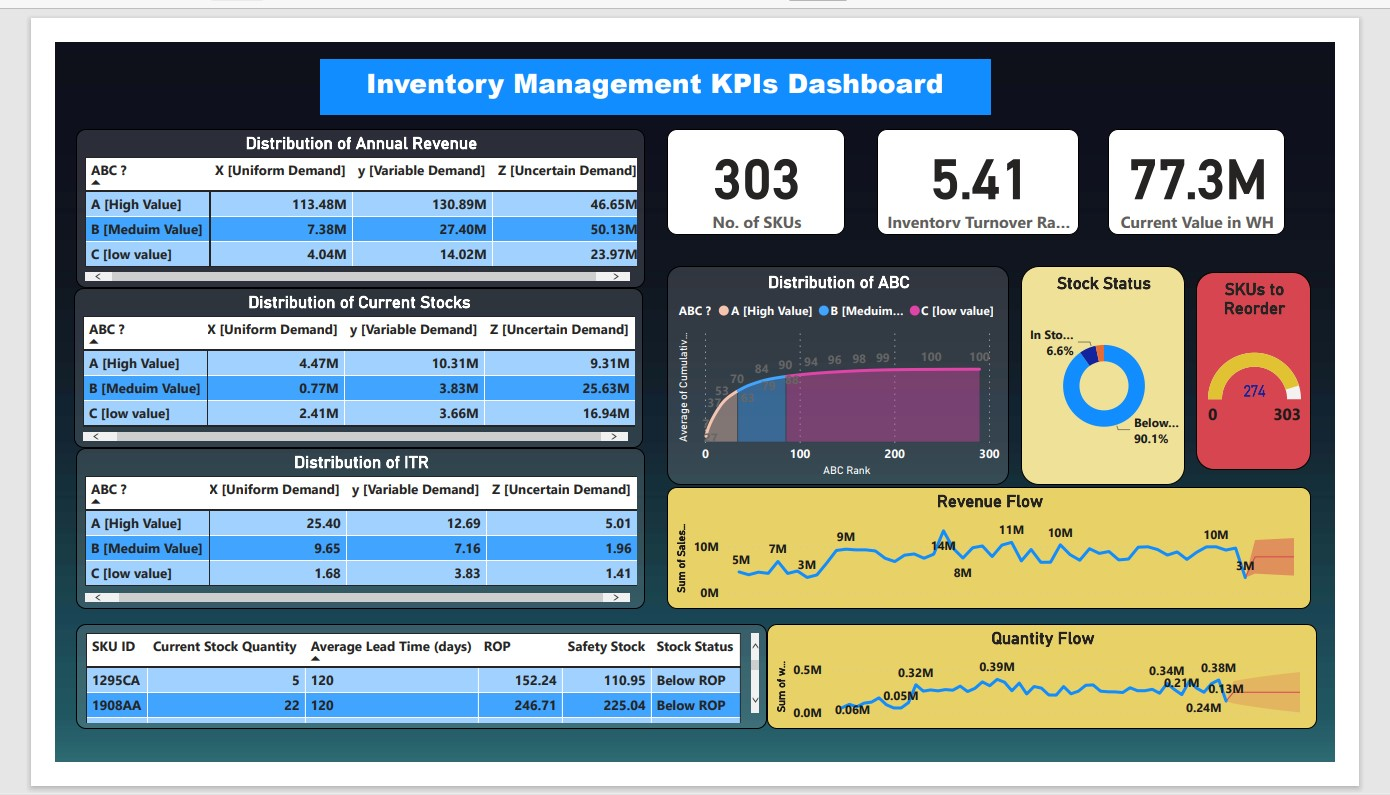

Layout of this report page (visuals, bound fields, positions):
{"tool":"powerbi","page":{"name":"Page 1","canvas":[1280,720],"ordinal":0},"visuals":[{"type":"areaChart","title":"Distribution of ABC","fields":{"Category":["Stock.ABC Rank"],"Series":["Stock.ABC ?"],"Y":["Avg(Stock.Cumulative Share)"]},"box":[611.9,224.1,341.7,219.3],"z":0},{"type":"pivotTable","title":"Distribution of Annual Revenue","fields":{"Rows":["Stock.ABC ?"],"Columns":["Stock.XYZ?"],"Values":["Sum(Stock.Annual Revenue)"]},"box":[20.7,87.4,569,158.9],"z":1000},{"type":"pivotTable","title":"Distribution of Current Stocks","fields":{"Rows":["Stock.ABC ?"],"Columns":["Stock.XYZ?"],"Values":["Sum(Stock.Value in WH)"]},"box":[18.9,245.7,568.8,160.6],"z":2000},{"type":"card","fields":{"Values":["Stock.Inventory Turnover Ratio"]},"box":[822.1,86.9,202.2,105.8],"z":2001},{"type":"card","fields":{"Values":["Count(Stock.SKU ID)"]},"box":[612.3,86.9,177.6,105.8],"z":2002},{"type":"card","fields":{"Values":["Sum(Stock.Value in WH)"]},"box":[1052.6,86.9,177.6,105.8],"z":2003},{"type":"pivotTable","title":"Distribution of ITR","fields":{"Rows":["Stock.ABC ?"],"Columns":["Stock.XYZ?"],"Values":["Stock.Inventory Turnover Ratio"]},"box":[20.8,406.3,568.8,160.6],"z":2004},{"type":"tableEx","fields":{"Values":["Stock.SKU ID","Stock.Current Stock Quantity","Stock.Average Lead Time (days)","Stock.ROP","Stock.Safety Stock","Stock.Stock Status"]},"box":[20.7,581.7,691.4,104.9],"z":2005},{"type":"gauge","title":"SKUs to Reorder","fields":{"MaxValue":["CountNonNull(Stock.SKU ID)"],"Y":["Stock.SKUs to order"]},"box":[1141.2,230.5,114.4,197.1],"z":2006},{"type":"donutChart","title":"Stock Status ","fields":{"Category":["Stock.Stock Status"],"Y":["CountNonNull(Stock.SKU ID)"]},"box":[966.4,224.1,163.7,219.3],"z":2007},{"type":"lineChart","title":"Revenue Flow","fields":{"Category":["weekly demand sheet.Week Date"],"Y":["Sum(weekly demand sheet.Sales Amount)"]},"box":[611.9,445,643.7,122.4],"z":2008},{"type":"lineChart","title":"Quantity Flow","fields":{"Category":["weekly demand sheet.Week Date"],"Y":["Sum(weekly demand sheet.weekly Demand)"]},"box":[712.1,581.7,549.9,104.9],"z":2009},{"type":"textbox","box":[265.4,17.5,669.1,54],"z":2010}]}

Visuals, with their boxes in screenshot pixels (x1, y1, x2, y2), scaled from the page's 1280x720 canvas onto the 1390x795 screenshot:
"Distribution of ABC" areaChart: pyautogui.locateOnScreen(664, 247, 1036, 490)
"Distribution of Annual Revenue" pivotTable: pyautogui.locateOnScreen(22, 97, 640, 272)
"Distribution of Current Stocks" pivotTable: pyautogui.locateOnScreen(21, 271, 638, 449)
card - Stock.Inventory Turnover Ratio: pyautogui.locateOnScreen(893, 96, 1112, 213)
card - Count(Stock.SKU ID): pyautogui.locateOnScreen(665, 96, 858, 213)
card - Sum(Stock.Value in WH): pyautogui.locateOnScreen(1143, 96, 1336, 213)
"Distribution of ITR" pivotTable: pyautogui.locateOnScreen(23, 449, 640, 626)
tableEx - Stock.SKU ID x Stock.Current Stock Quantity: pyautogui.locateOnScreen(22, 642, 773, 758)
"SKUs to Reorder" gauge: pyautogui.locateOnScreen(1239, 255, 1364, 472)
"Stock Status " donutChart: pyautogui.locateOnScreen(1049, 247, 1227, 490)
"Revenue Flow" lineChart: pyautogui.locateOnScreen(664, 491, 1364, 627)
"Quantity Flow" lineChart: pyautogui.locateOnScreen(773, 642, 1370, 758)
textbox: pyautogui.locateOnScreen(288, 19, 1015, 79)
